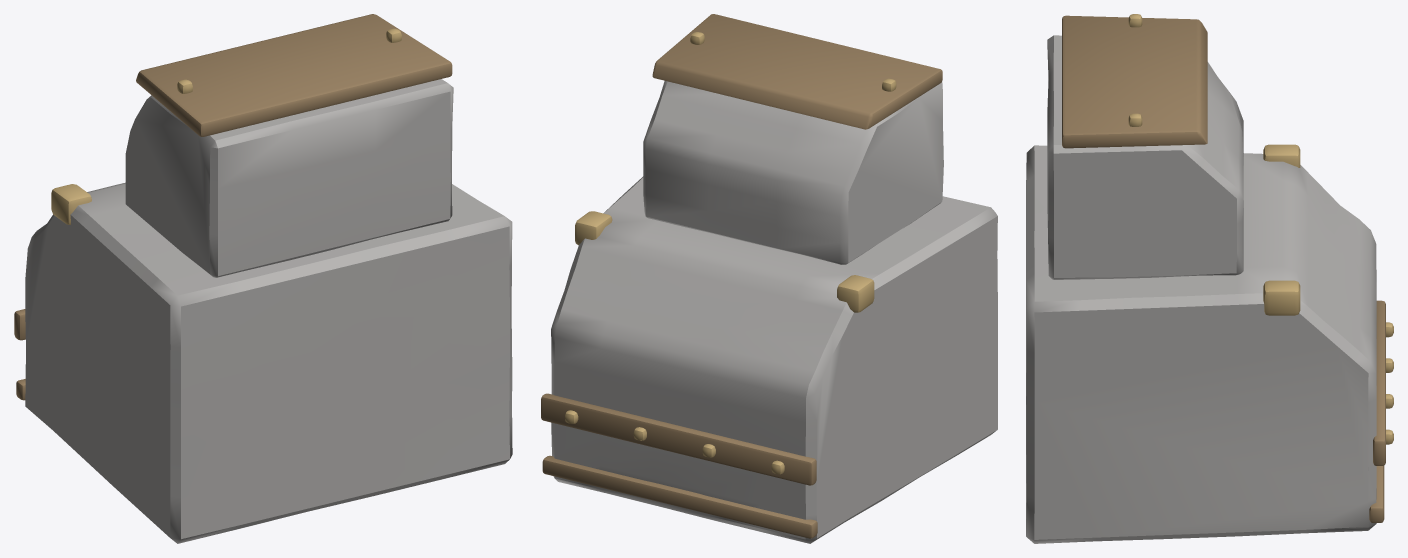
Rendered from SM_Area2_RimTooth_Big_B.glb.
3 views of the same model, side by side, from view 1: azimuth 30°, elevation 25°; view 2: azimuth 150°, elevation 25°; view 3: azimuth 270°, elevation 25° (orthographic). The views are drawn at different scales.
Visible parts, largest first — view 1: SM_Area2_RimTooth_Big_B; view 2: SM_Area2_RimTooth_Big_B; view 3: SM_Area2_RimTooth_Big_B.
Boxes of the visible parts, <box> form: SM_Area2_RimTooth_Big_B: <box>14,14,512,543</box>; SM_Area2_RimTooth_Big_B: <box>541,14,997,543</box>; SM_Area2_RimTooth_Big_B: <box>1026,14,1393,543</box>.
Size of the model in its own units: 2.09 by 2.4 by 1.99.
